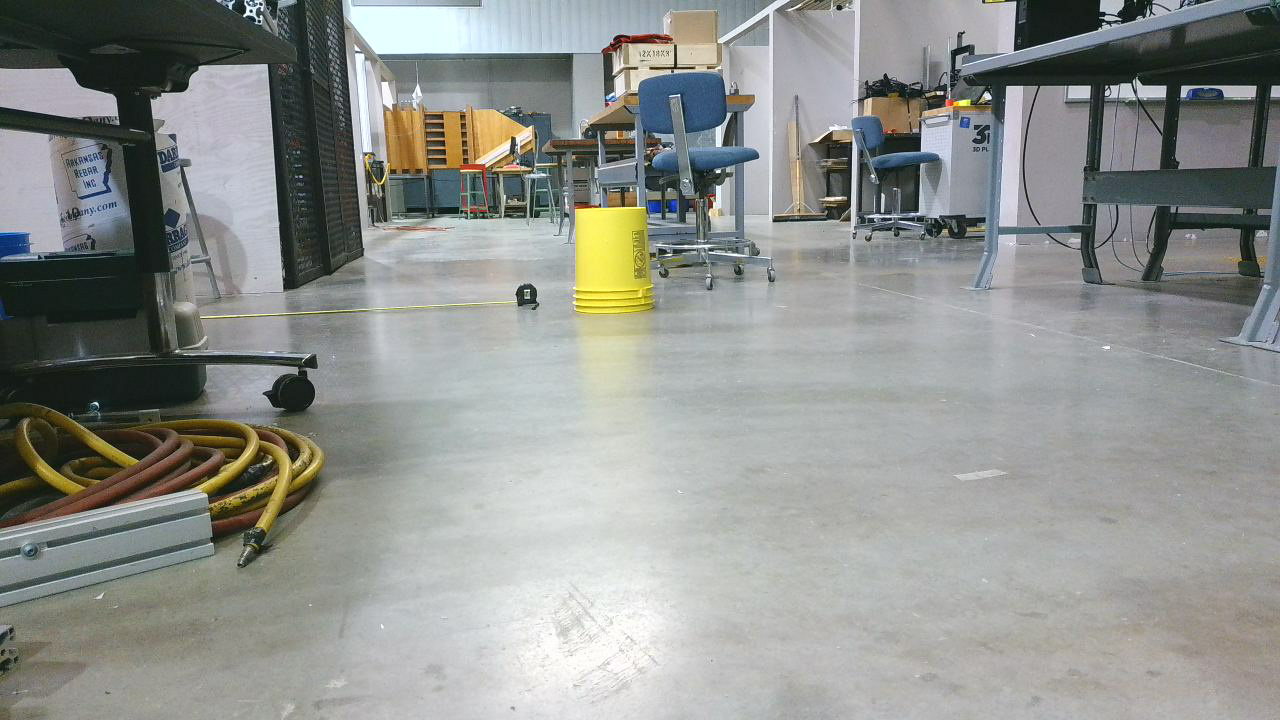yellow_bucket: (573, 209, 664, 319)
